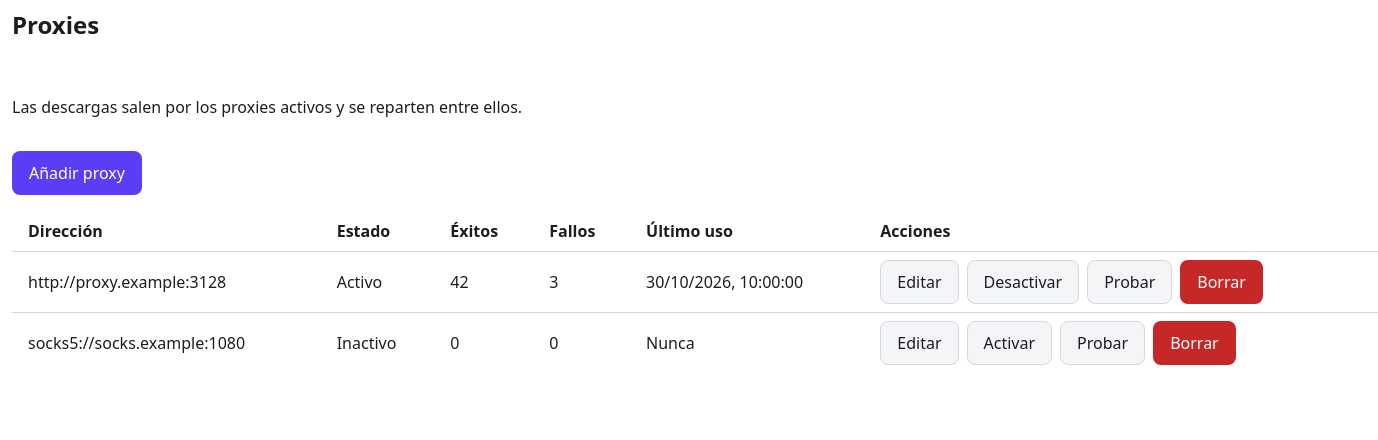
Test: ProxiesView › avisa como error de una prueba fallida, con o sin respuesta
Click the button "Probar" in the row of "http://proxy.example:3128".
click(1130, 282)  # box [1087,260,1172,304]
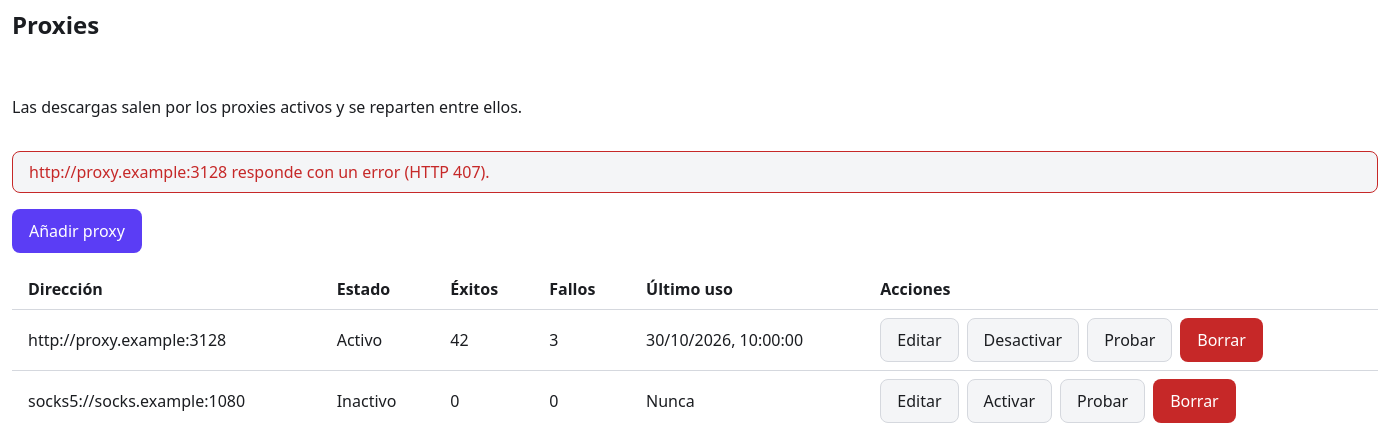
Expected: the message "http://proxy.example:3128 responde con un error (HTTP 407)." is shown, [12,151,1377,193]
Click the button "Probar" in the row of "socks5://socks.example:1080".
click(1103, 401)  # box [1060,379,1145,423]
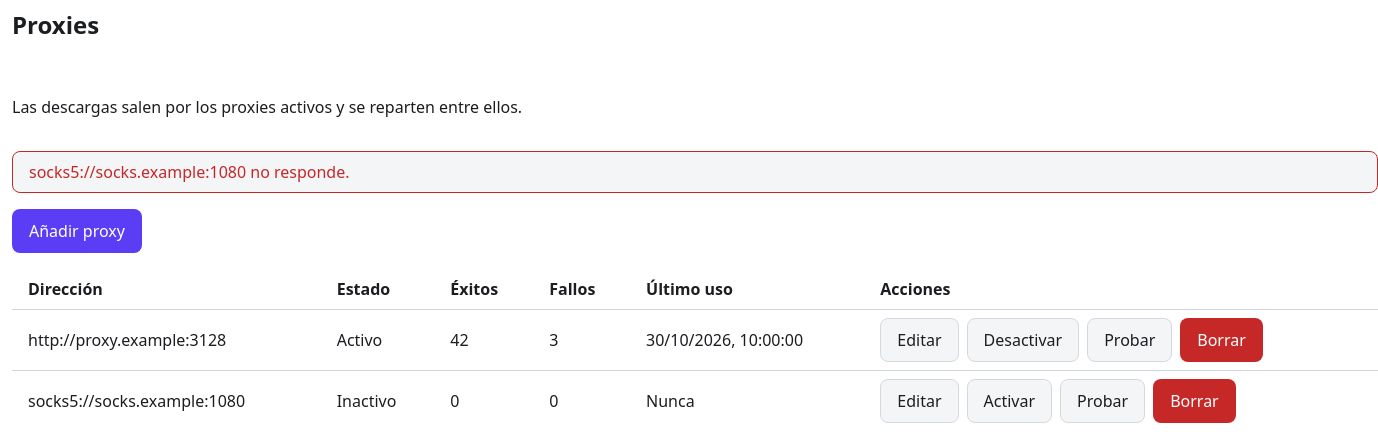
Expected: the message "socks5://socks.example:1080 no responde." is shown, [12,151,1377,193]
